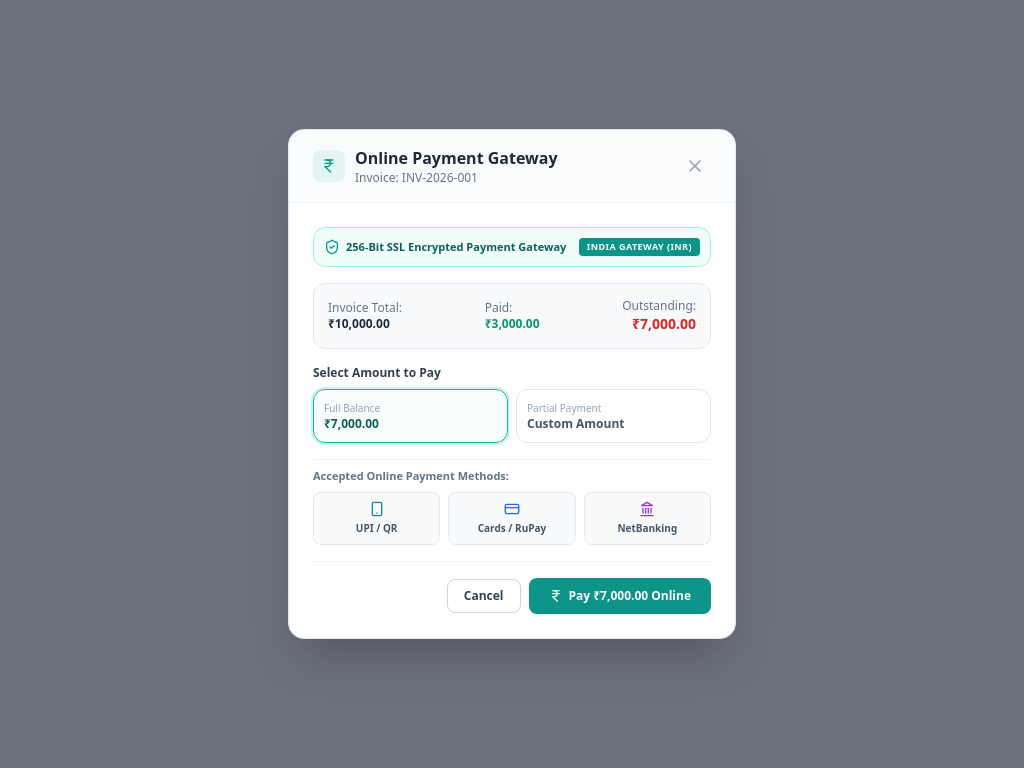
Test: OnlinePaymentModal Component › switches to custom partial amount and validates boundaries
Click the text "Partial Payment".
click(564, 408)  # box [527, 400, 601, 414]
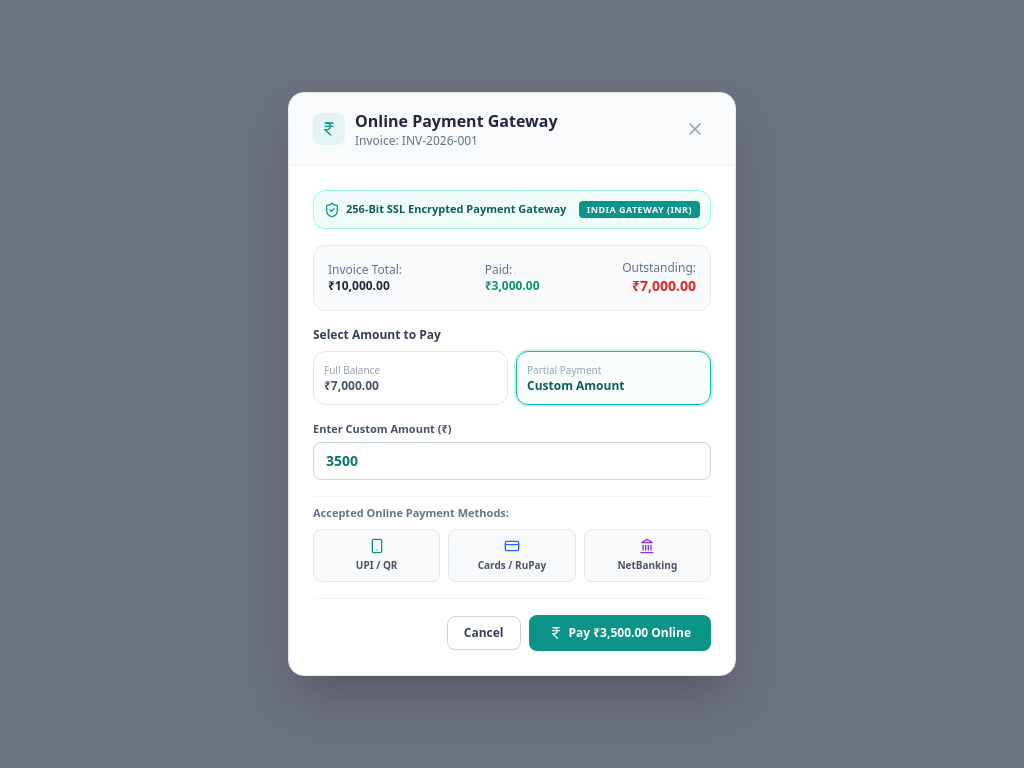
Expected: the number field showing "3500" is shown
// Set an amount higher than balance
Replace the text in the number field showing "3500" with "8500" at (512, 461), box [313, 442, 711, 480]
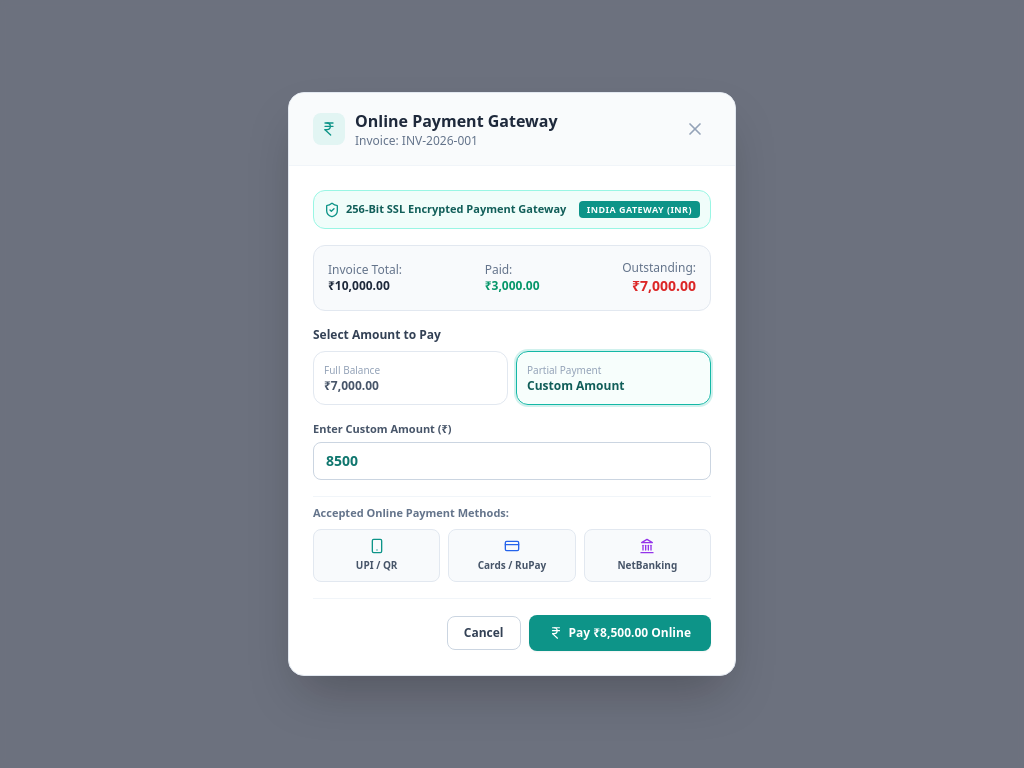
Click the button "Pay ₹8,500.00 Online".
click(620, 633)  # box [528, 615, 711, 651]
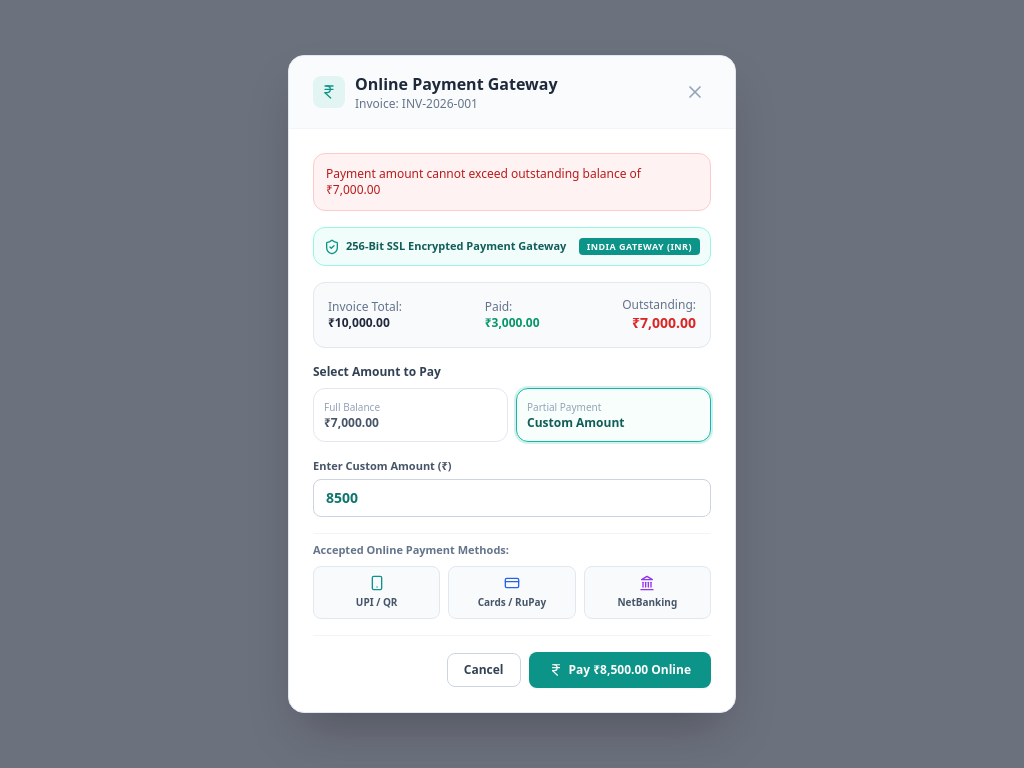
Expected: the text "Payment amount cannot exceed outstanding balance" is shown, [326, 165, 641, 198]
// Valid partial amount
Replace the text in the number field showing "3500" with "2500" at (512, 498), box [313, 479, 711, 517]
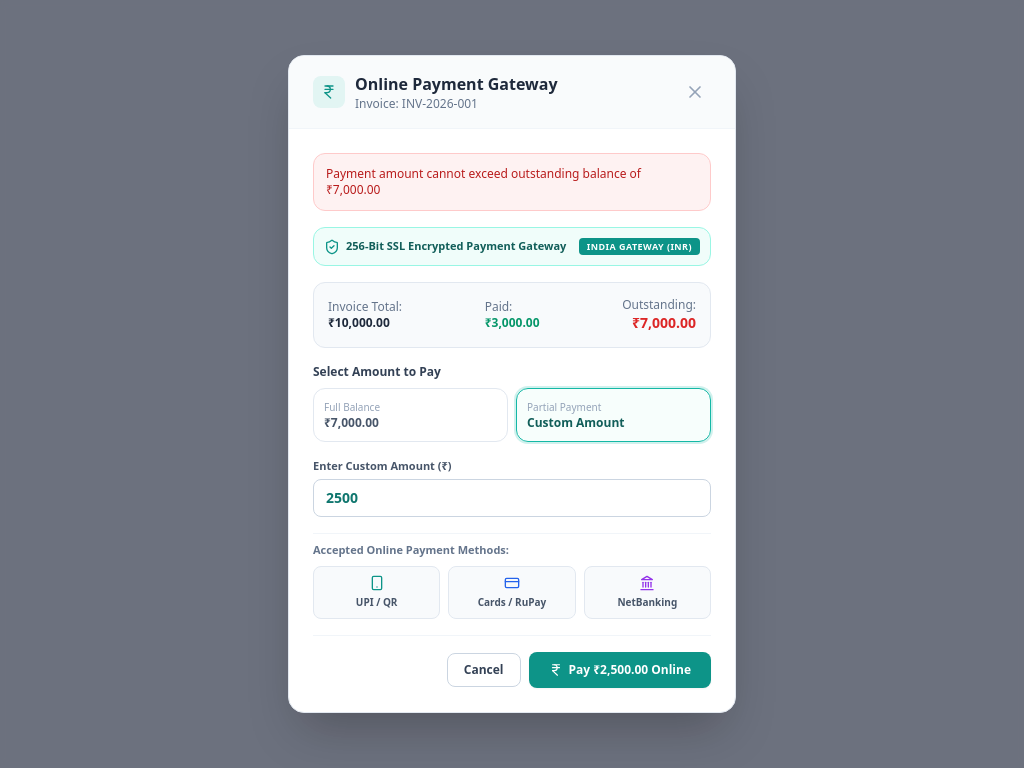
Expected: the button "Pay ₹2,500.00 Online" is shown, [528, 652, 711, 688]
